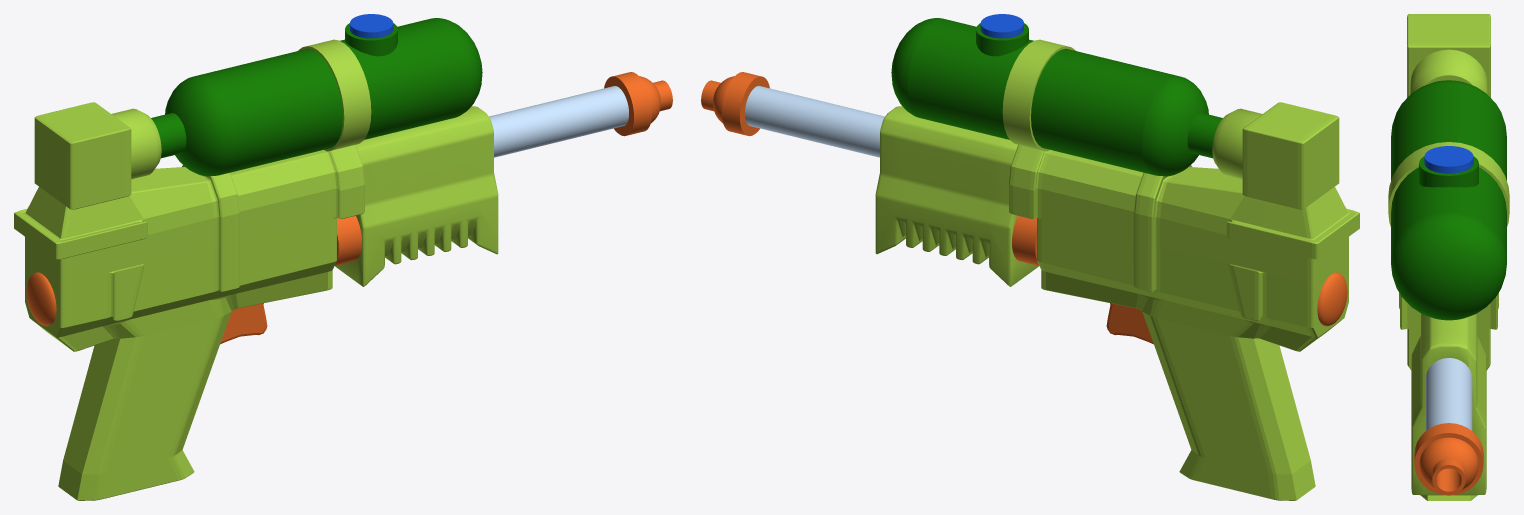
Rendered from water_gun.fbx.
The picture shows the model from 3 angles, left to right: view 1: azimuth 30°, elevation 25°; view 2: azimuth 150°, elevation 25°; view 3: azimuth 270°, elevation 25°; orthographic projection. The views are drawn at different scales.
Parts seen in each view (by area): view 1: Frame, WaterContainer, Slider, Barrel, WaterContainerBottom, WaterContainerDetail02, FrameDetail01, Tip, WaterContainerTop, FrameDetail02, Trigger, WaterContainerDetail01 (+3 smaller); view 2: Frame, WaterContainer, Slider, Barrel, WaterContainerBottom, WaterContainerDetail02, FrameDetail01, Tip, WaterContainerTop, FrameDetail02, Trigger, WaterContainerDetail01 (+3 smaller); view 3: WaterContainer, WaterContainerTop, Slider, Frame, Barrel, FrameDetail01, TipDetail01.001, WaterContainerDetail02, Tip, WaterContainerCapDetail01, WaterContainerCap, TipDetail01 (+1 smaller).
Boxes of the visible parts, bbox=[...] form: Frame: bbox=[14, 102, 364, 500]; WaterContainer: bbox=[197, 18, 466, 174]; Slider: bbox=[335, 106, 498, 286]; Barrel: bbox=[489, 86, 628, 157]; WaterContainerBottom: bbox=[165, 76, 231, 176]; WaterContainerDetail02: bbox=[298, 39, 371, 151]; FrameDetail01: bbox=[111, 108, 161, 179]; Tip: bbox=[604, 72, 651, 136]; WaterContainerTop: bbox=[431, 18, 482, 117]; FrameDetail02: bbox=[26, 272, 56, 326]; Trigger: bbox=[220, 303, 267, 344]; WaterContainerDetail01: bbox=[151, 113, 186, 158]; Frame: bbox=[1009, 102, 1359, 500]; WaterContainer: bbox=[907, 18, 1176, 174]; Slider: bbox=[875, 106, 1038, 286]; Barrel: bbox=[745, 86, 884, 157]; WaterContainerBottom: bbox=[1142, 76, 1208, 176]; WaterContainerDetail02: bbox=[1002, 39, 1075, 151]; FrameDetail01: bbox=[1212, 108, 1262, 179]; Tip: bbox=[722, 72, 769, 136]; WaterContainerTop: bbox=[891, 18, 942, 117]; FrameDetail02: bbox=[1317, 272, 1347, 326]; Trigger: bbox=[1106, 303, 1153, 344]; WaterContainerDetail01: bbox=[1187, 113, 1222, 158]; WaterContainer: bbox=[1391, 83, 1506, 263]; WaterContainerTop: bbox=[1391, 212, 1506, 320]; Slider: bbox=[1411, 313, 1486, 495]; Frame: bbox=[1399, 14, 1498, 500]; Barrel: bbox=[1425, 358, 1472, 430]; FrameDetail01: bbox=[1410, 49, 1487, 94]; TipDetail01.001: bbox=[1419, 437, 1478, 490]; WaterContainerDetail02: bbox=[1388, 142, 1509, 226]; Tip: bbox=[1414, 423, 1483, 495]; WaterContainerCapDetail01: bbox=[1424, 146, 1473, 173]; WaterContainerCap: bbox=[1419, 156, 1478, 187]; TipDetail01: bbox=[1432, 458, 1465, 495].
Bounding box in the file's own units: 492 × 296 × 72.74.
